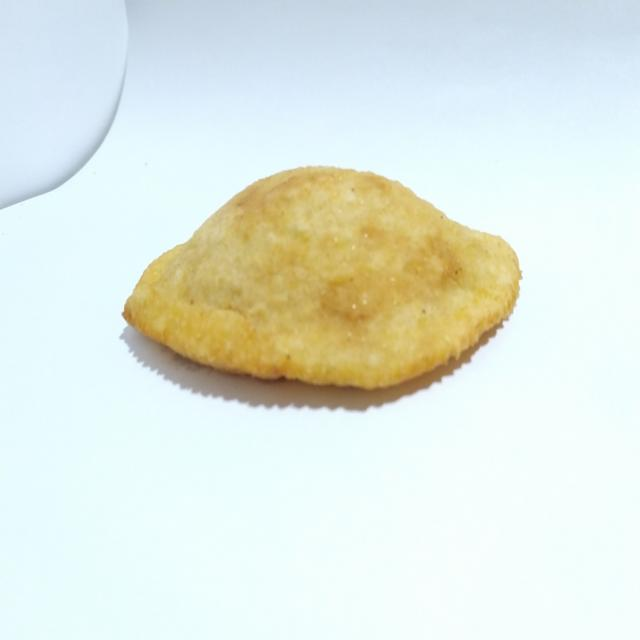Pastel_Mandio: (108, 153, 530, 410)
